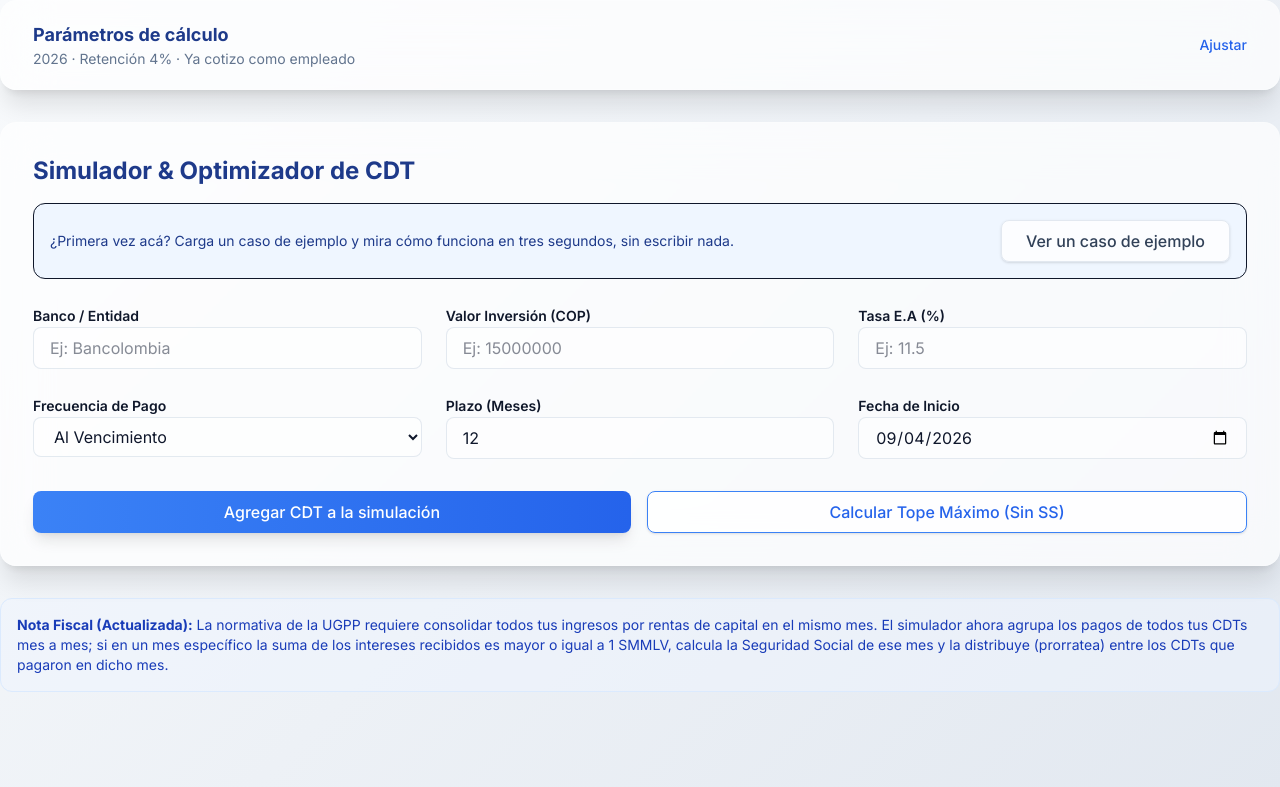
CDTSimulator › calcula el tope máximo de inversión para un rentista con una tasa E.A. válida
The width and height of the screenshot is (1280, 787).
Click the button "Ajustar" at point(131, 34), box [1,1,1279,89]
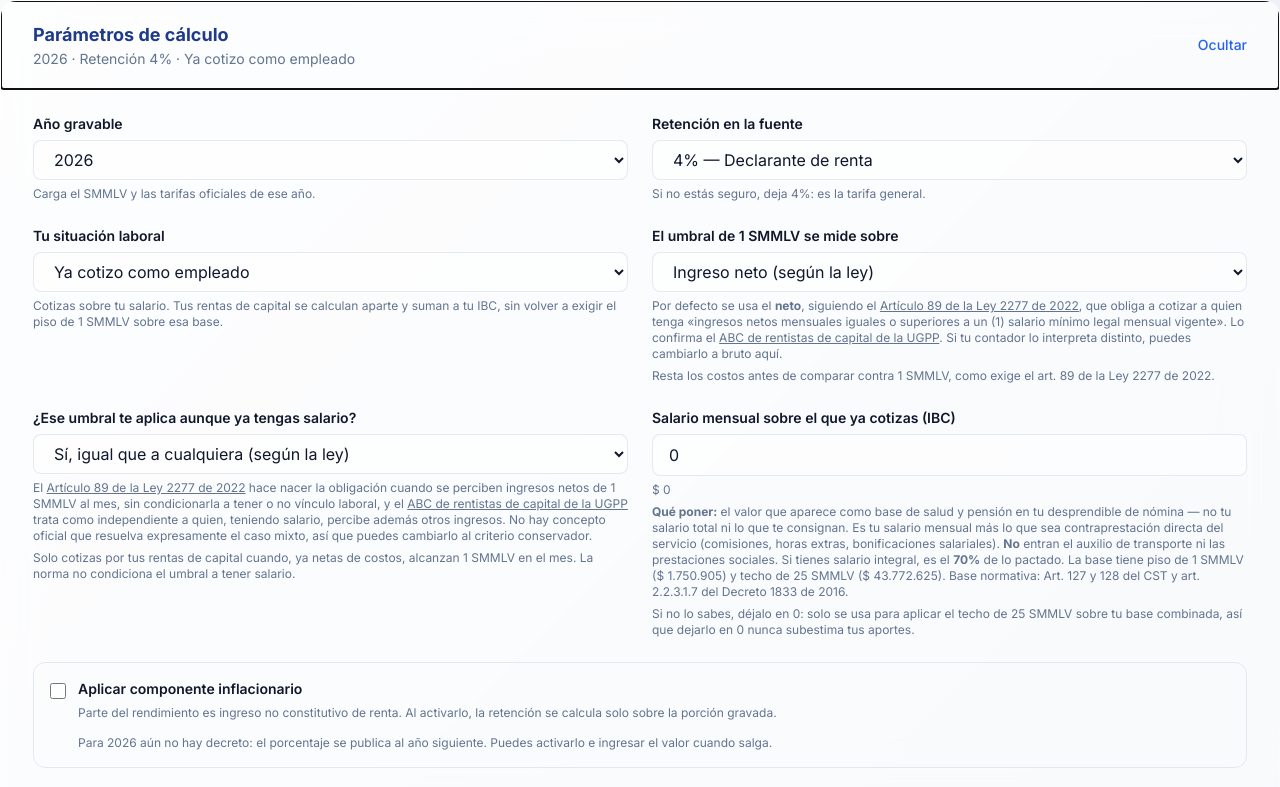
Select "Rentista de capital" in the dropdown labelled "Tu situación laboral" at point(330, 272), box [33,252,628,292]
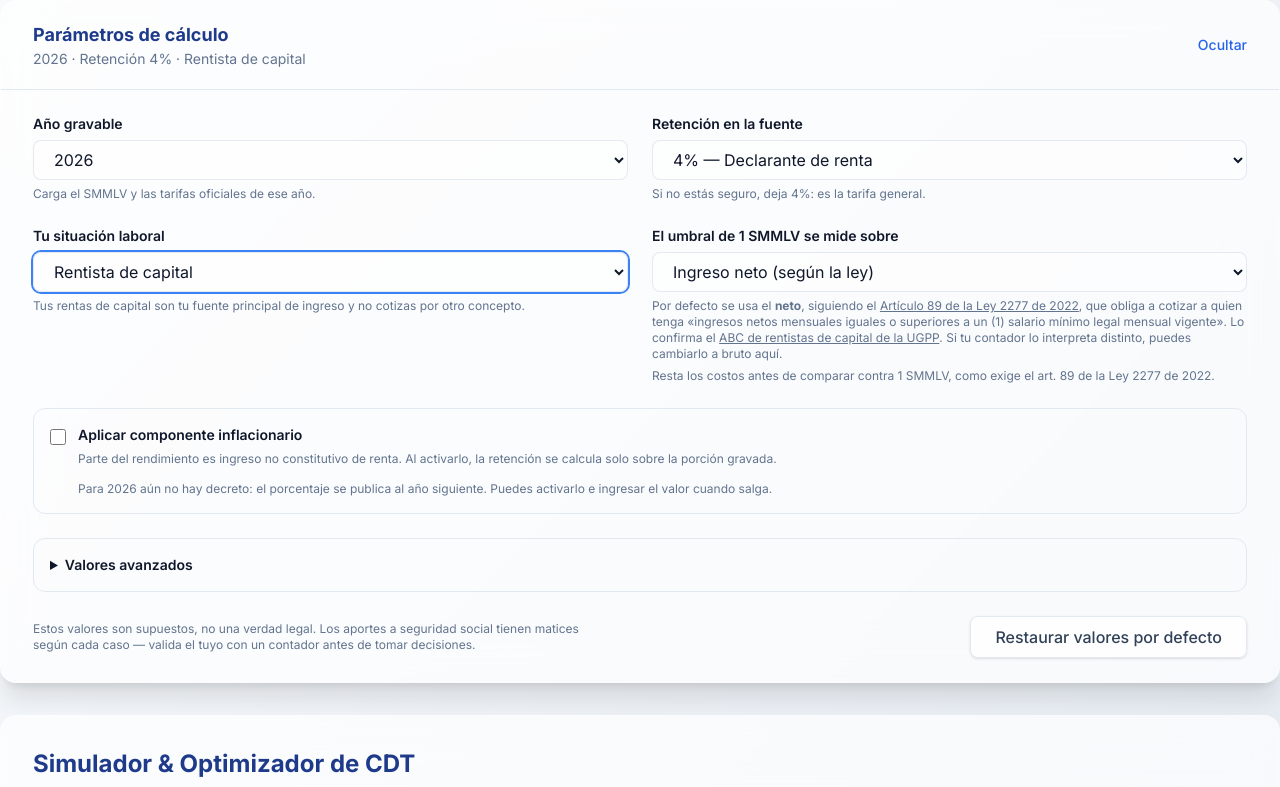
Click the button "Ocultar" at point(131, 34), box [1,1,1279,89]
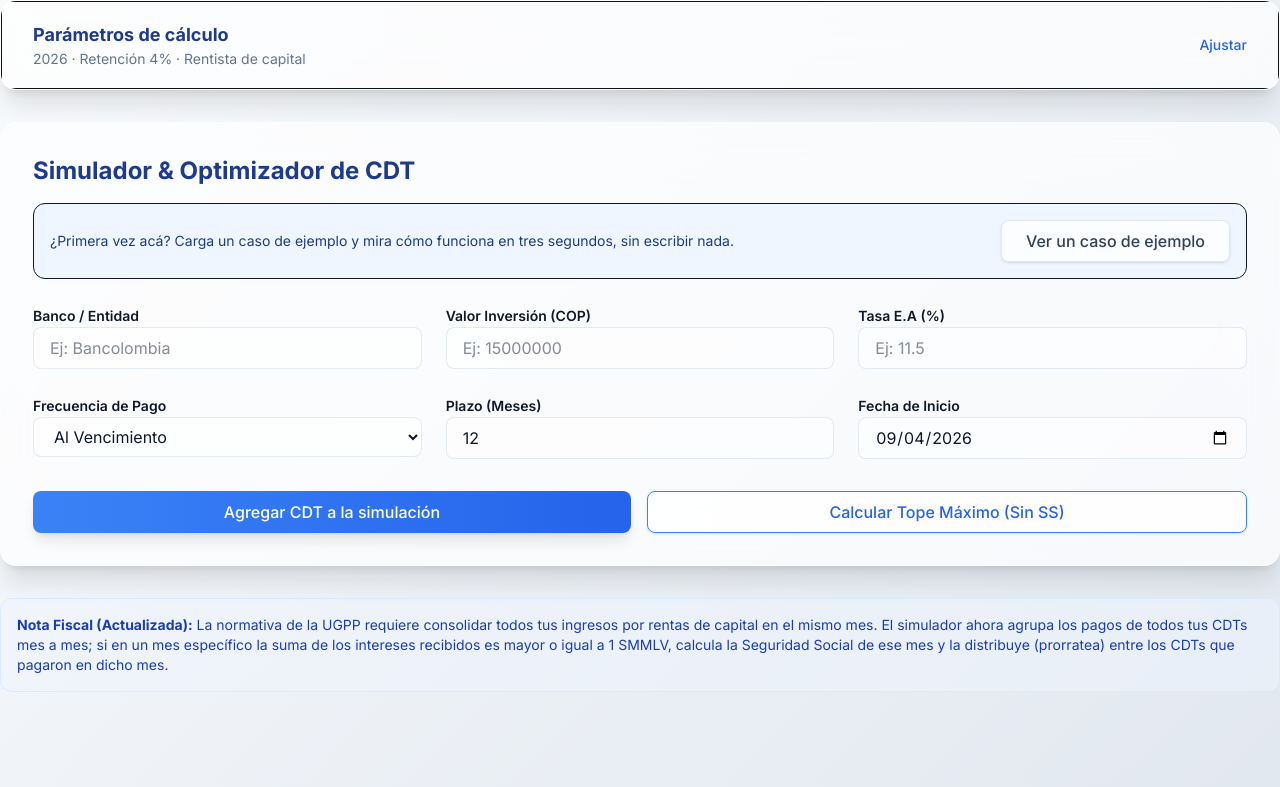
Type "11.5" into the number field labelled "Tasa E.A (%)" at point(1053, 348), box [858,327,1247,369]
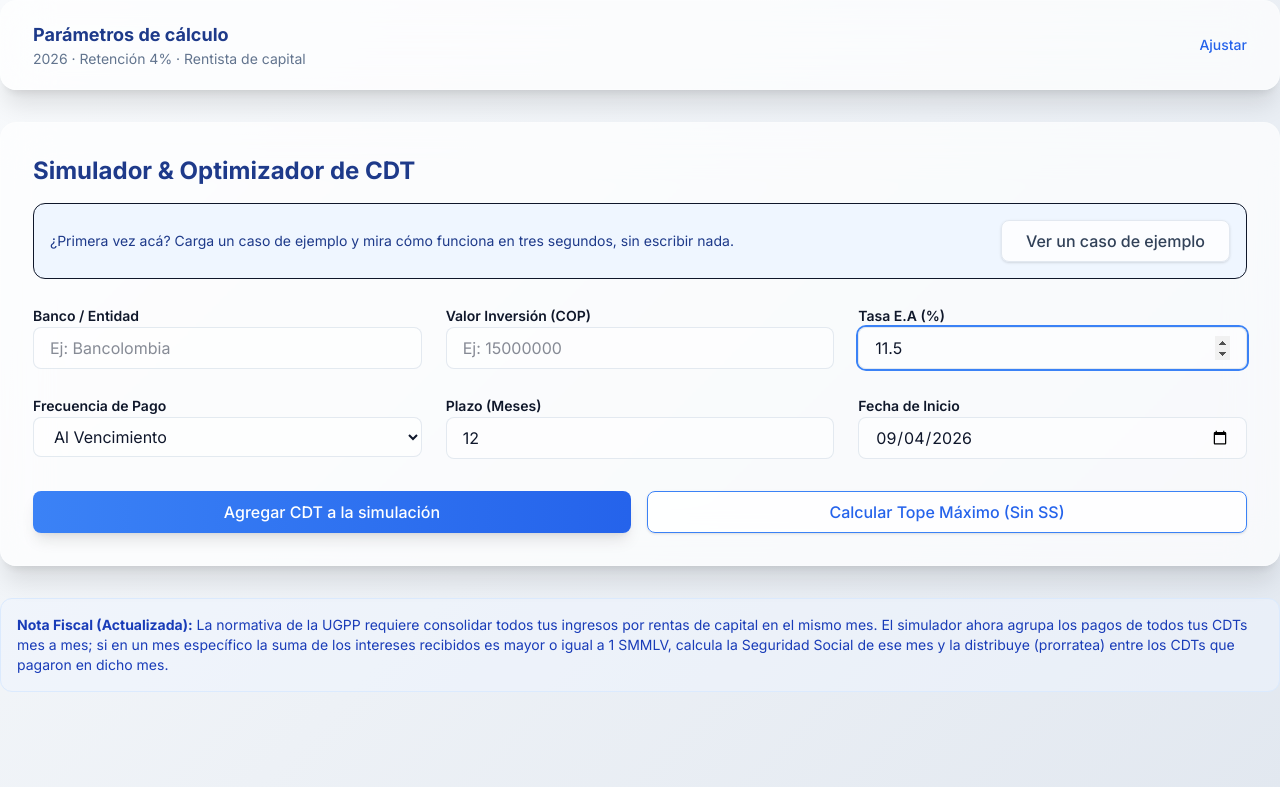
Click the button "Calcular Tope Máximo (Sin SS)" at point(947, 512), box [647,491,1247,533]
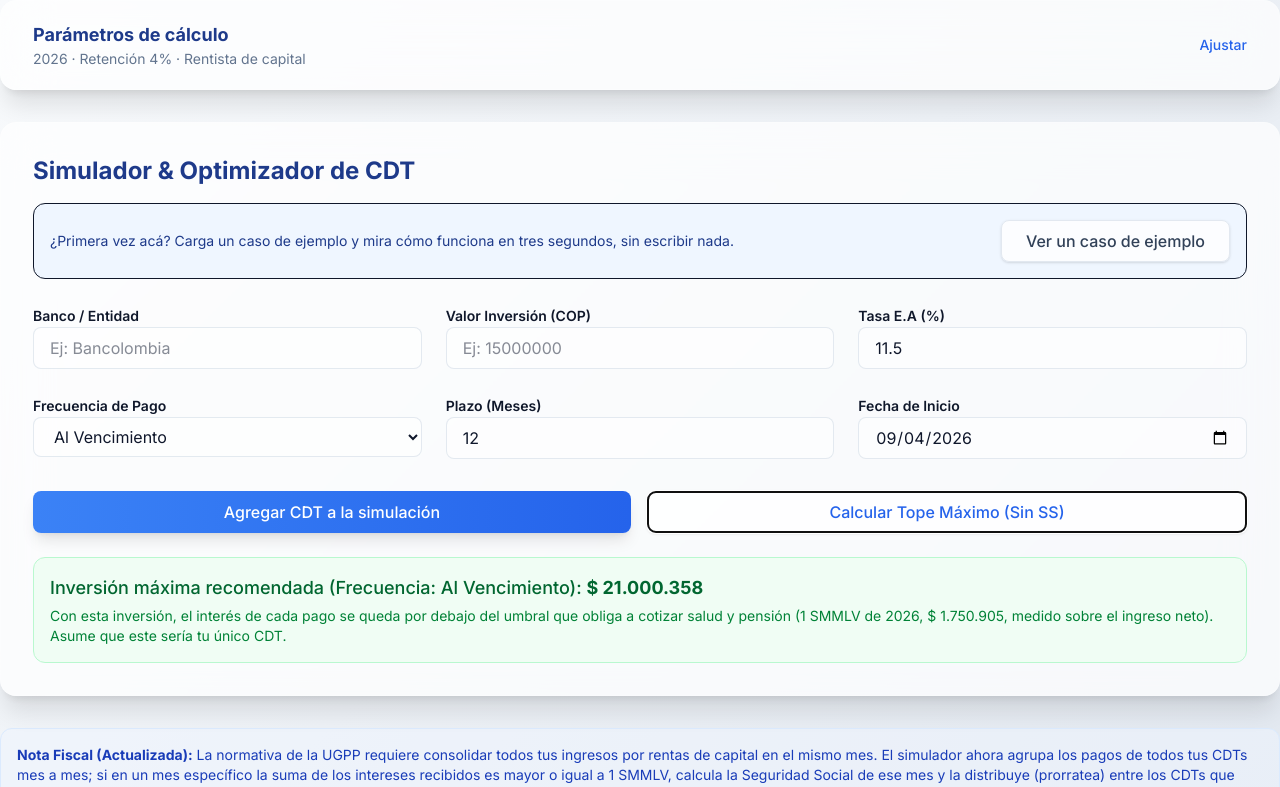
Expected: the text "Inversión máxima recomendada" is shown, [50,577,441,598]
